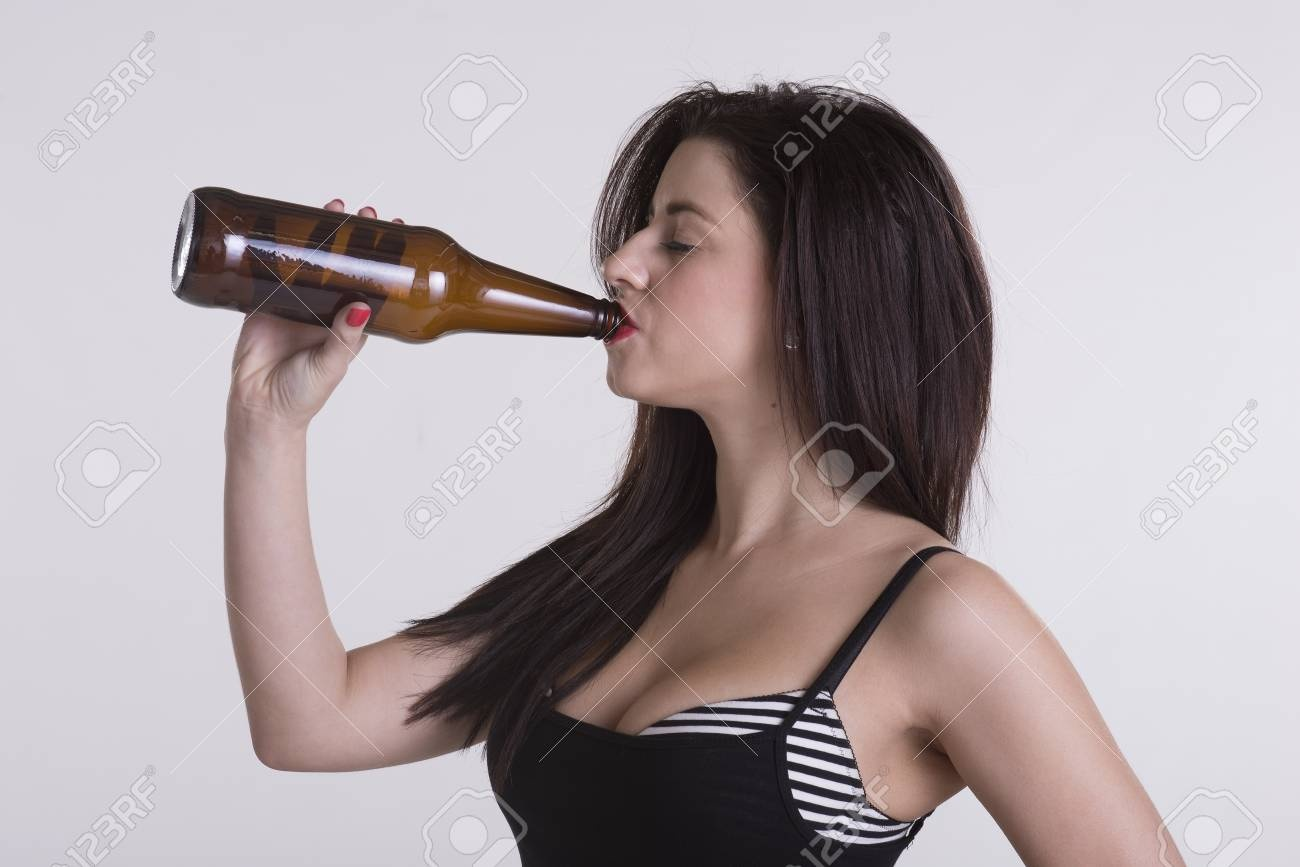beerBottle: (171, 191, 626, 345)
